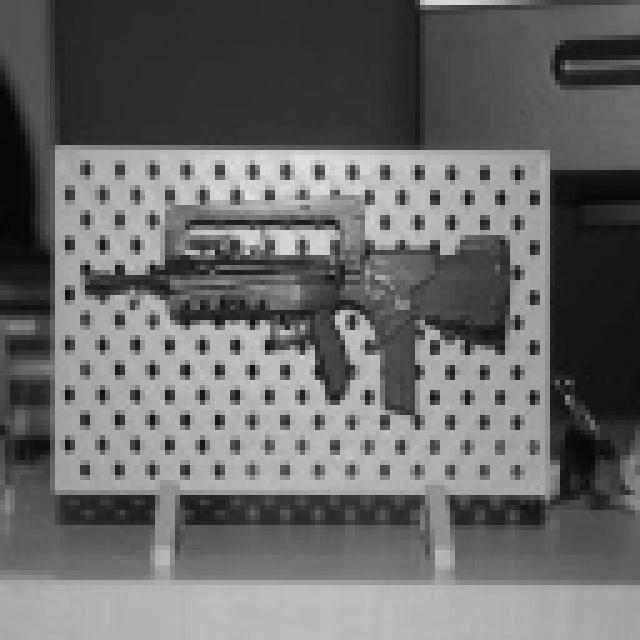Rifle: (58, 174, 541, 436)
